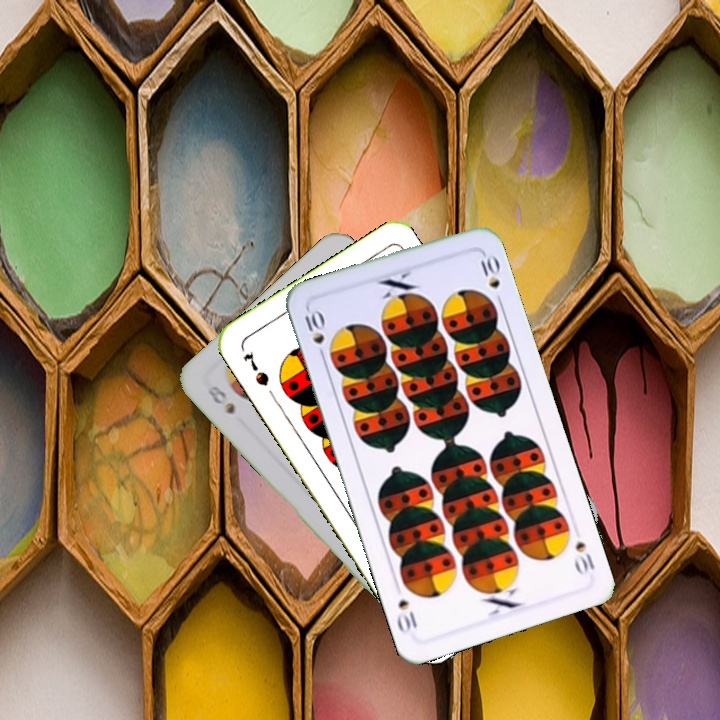S10: (300, 305, 328, 363), (570, 537, 597, 578)
S7: (239, 347, 272, 389)
S8: (203, 381, 238, 417)
